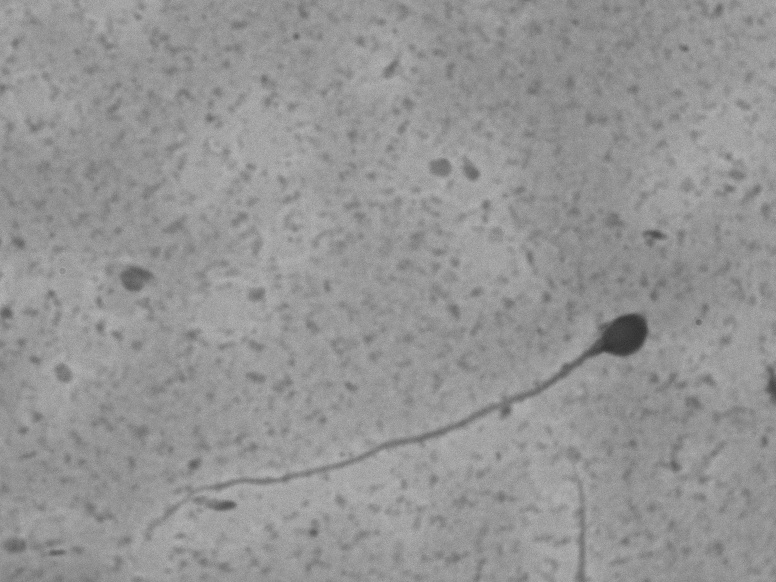Abnormal: (123, 279, 677, 550)
